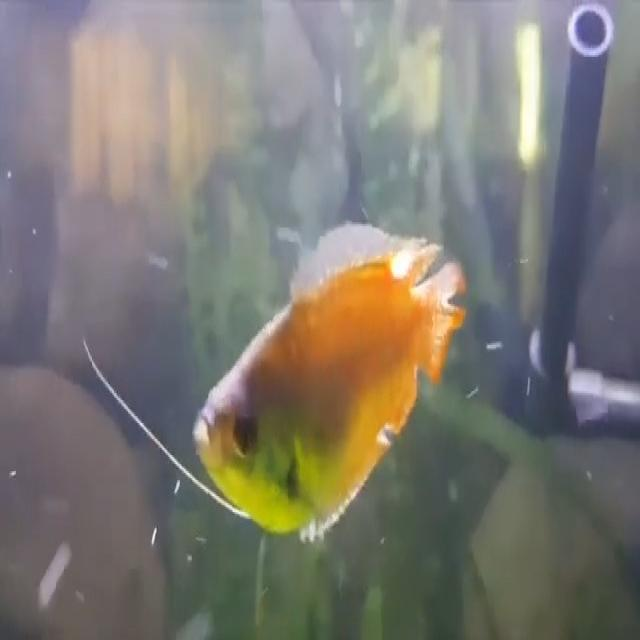fish: (192, 211, 468, 544)
